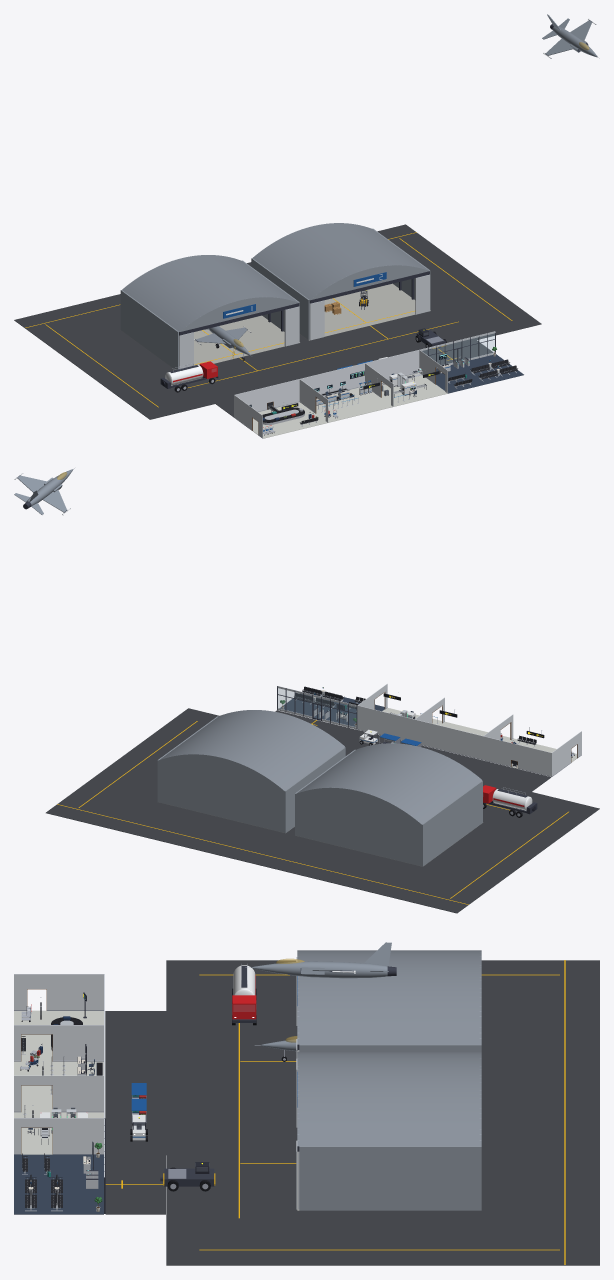
File: air-001.glb
3 views of the same model, one above another, from view 1: azimuth 30°, elevation 25°; view 2: azimuth 150°, elevation 25°; view 3: azimuth 270°, elevation 25° (orthographic). The views are drawn at different scales.
Parts seen in each view (by area): view 1: apron_asphalt, hangar_roof, hangar_cladding, hangar_concrete, wall, counter_panel, terminal_floor, dark_steel, jet_grey, gate_carpet, safety_yellow, window_glass (+4 smaller); view 2: apron_asphalt, hangar_cladding, hangar_roof, wall, window_glass, jet_grey, gate_carpet, dark_steel, safety_yellow, white, terminal_floor, seat_upholstery (+1 smaller); view 3: apron_asphalt, hangar_roof, hangar_cladding, wall, terminal_floor, gate_carpet, jet_grey, safety_yellow, dark_steel, counter_panel, white, seat_upholstery (+5 smaller).
Boxes of the visible parts, box(x1,y1,x2,y2) form: apron_asphalt: box(14, 224, 541, 419); hangar_roof: box(122, 223, 429, 331); hangar_cladding: box(120, 224, 430, 369); hangar_concrete: box(128, 283, 430, 369); wall: box(234, 349, 447, 438); counter_panel: box(179, 274, 499, 419); terminal_floor: box(253, 373, 447, 438); dark_steel: box(160, 24, 553, 417); jet_grey: box(196, 14, 597, 355); gate_carpet: box(436, 354, 523, 393); safety_yellow: box(25, 232, 512, 407); window_glass: box(422, 333, 494, 364); apron_asphalt: box(46, 708, 599, 913); hangar_cladding: box(157, 710, 482, 866); hangar_roof: box(159, 710, 481, 824); wall: box(357, 683, 581, 776); window_glass: box(278, 688, 356, 726); jet_grey: box(14, 469, 73, 514); gate_carpet: box(279, 690, 384, 727); dark_steel: box(23, 501, 574, 814); safety_yellow: box(57, 720, 568, 904); white: box(14, 473, 532, 810); terminal_floor: box(382, 708, 576, 768); seat_upholstery: box(294, 686, 536, 744); apron_asphalt: box(105, 960, 599, 1265); hangar_roof: box(297, 950, 481, 1146); hangar_cladding: box(297, 952, 481, 1210); wall: box(14, 974, 104, 1153); terminal_floor: box(14, 1010, 103, 1154); gate_carpet: box(14, 1154, 103, 1214); jet_grey: box(251, 942, 391, 1051); safety_yellow: box(105, 960, 565, 1264); dark_steel: box(20, 966, 396, 1213); counter_panel: box(29, 957, 299, 1209); white: box(29, 965, 355, 1190); seat_upholstery: box(21, 1036, 62, 1207).
Bounding box in the file's own units: 91.6 × 42.12 × 58.5.
